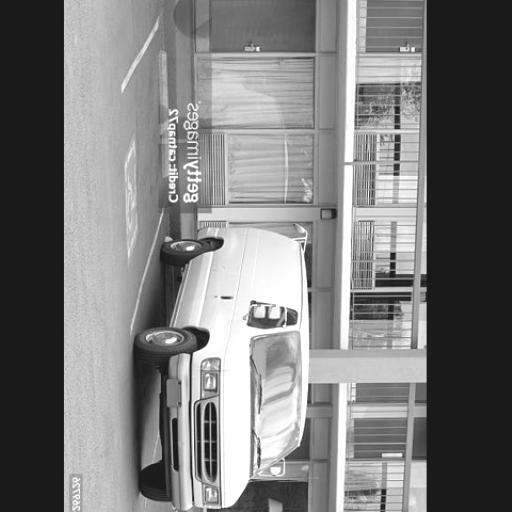van: (136, 225, 314, 512)
